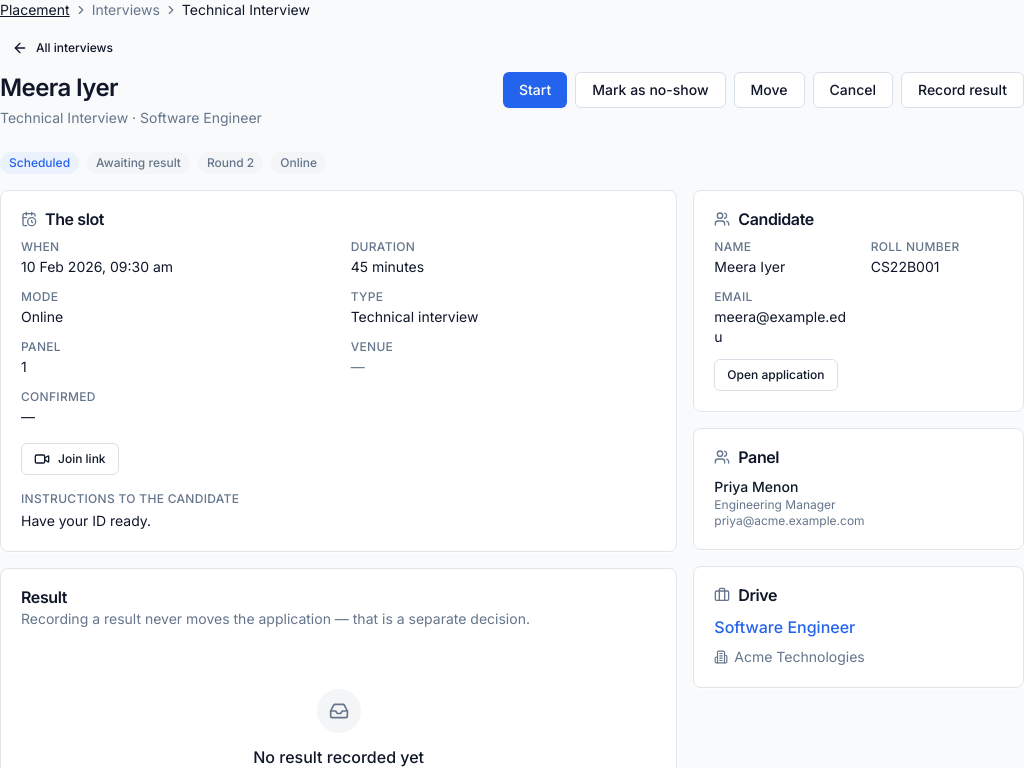
Test: Office interview detail › records a result and shows the suggestion without applying it
Check: the heading "Meera Iyer" is shown, box x1=0 y1=73 x2=118 y2=102
Step 1. Click the button "Record result" → (962, 90), box x1=901 y1=72 x2=1023 y2=108
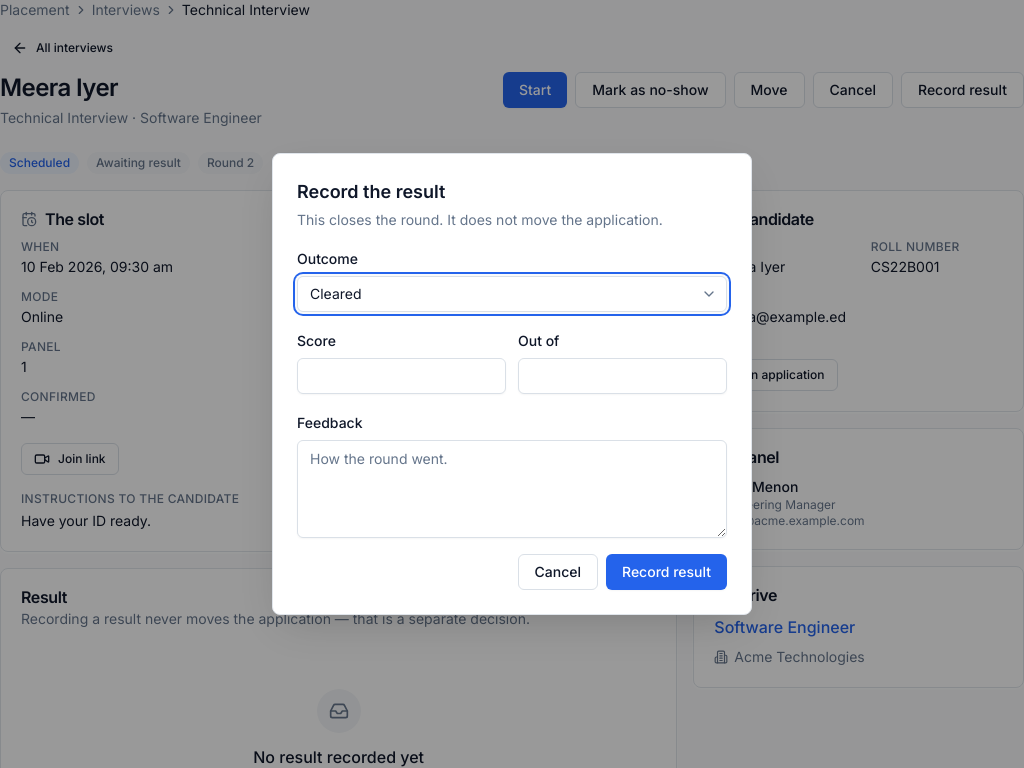
Step 2. Click the button "Record result" → (666, 572), box x1=606 y1=554 x2=727 y2=590
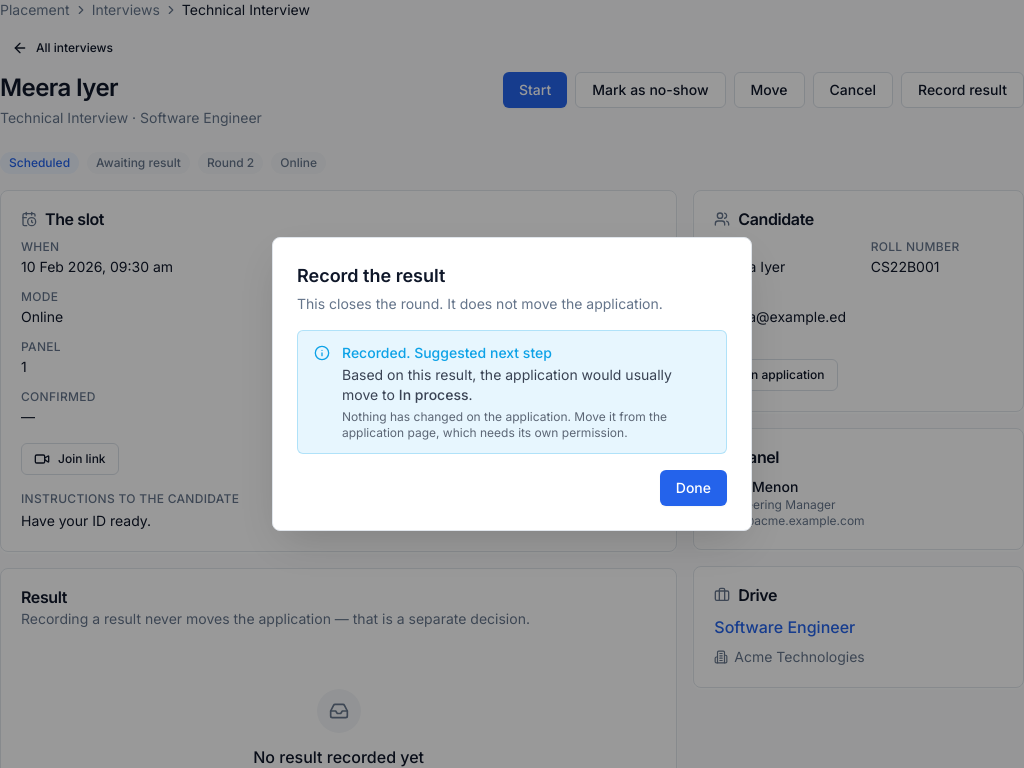
Check: the text "Recorded. Suggested next step" is shown, box x1=342 y1=344 x2=552 y2=361
Check: the text "Nothing has changed on the application" is shown, box x1=342 y1=409 x2=667 y2=440
